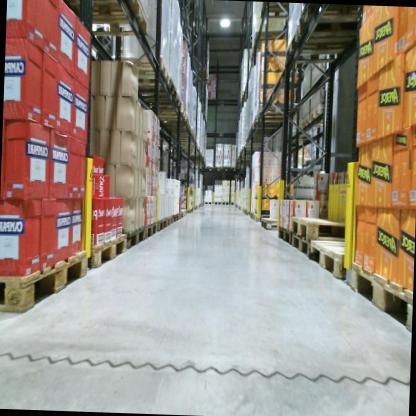pallet: (0, 244, 88, 319), (348, 260, 414, 333), (284, 24, 365, 71), (53, 0, 152, 35), (294, 4, 367, 43), (309, 238, 353, 281), (82, 231, 127, 272), (120, 54, 171, 86), (289, 215, 352, 240), (133, 76, 179, 100), (141, 91, 183, 112), (300, 105, 330, 131), (256, 103, 294, 123), (119, 224, 146, 250), (253, 30, 288, 50), (151, 103, 187, 122), (290, 233, 312, 260), (259, 3, 289, 21), (259, 216, 284, 233), (277, 225, 292, 247), (144, 220, 158, 239), (156, 216, 168, 234), (165, 214, 174, 228), (253, 213, 265, 223), (171, 212, 179, 223), (179, 208, 188, 216), (178, 210, 183, 220), (249, 212, 255, 220)
